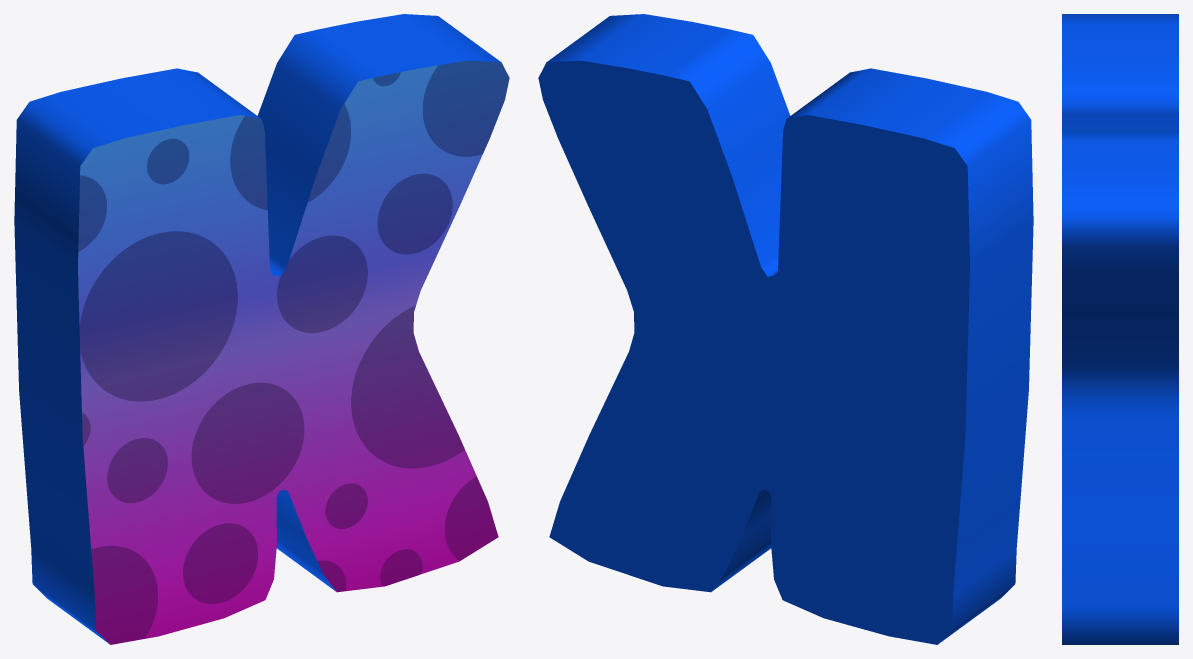
3 views of the same model, side by side, from view 1: azimuth 30°, elevation 25°; view 2: azimuth 150°, elevation 25°; view 3: azimuth 270°, elevation 25° (orthographic). The views are drawn at different scales.
Visible parts, largest first — view 1: K; view 2: K; view 3: K.
Boxes of the visible parts, x1,y1,x2,y2 form: K: (14,14,509,644); K: (538,14,1033,644); K: (1062,14,1178,644).
Size of the model in its own units: 78.44 by 88.84 by 20.
2 materials, 1 textured.
